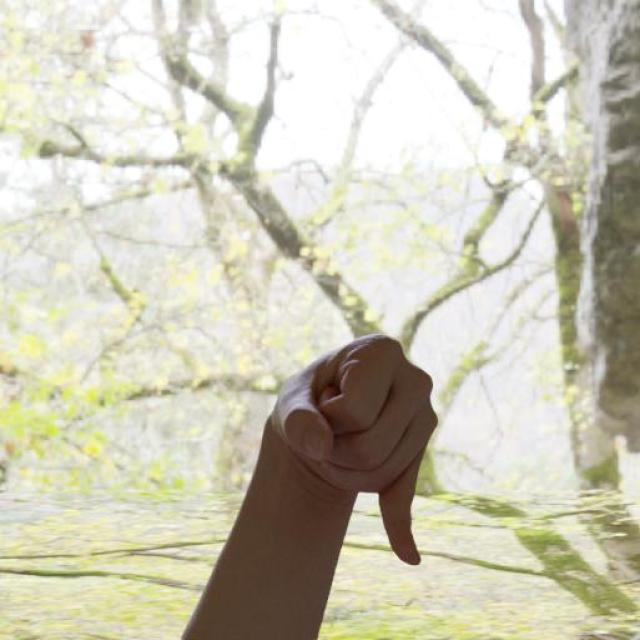J: (257, 328, 442, 570)
